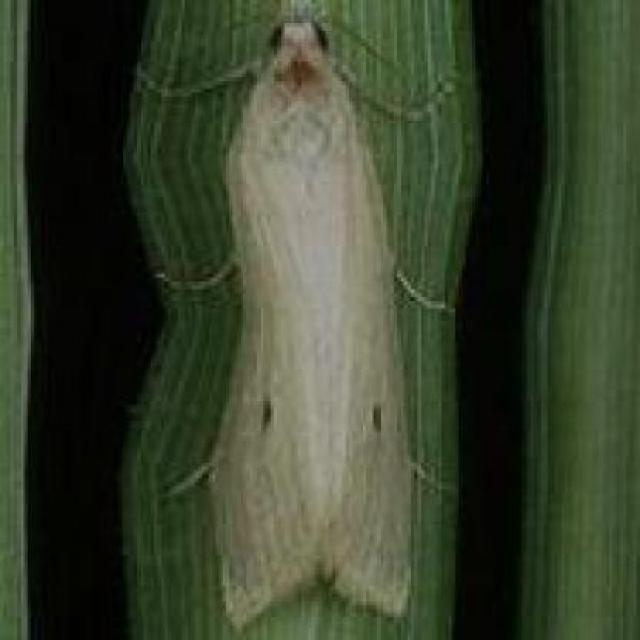stem-borer: (183, 0, 434, 640)
